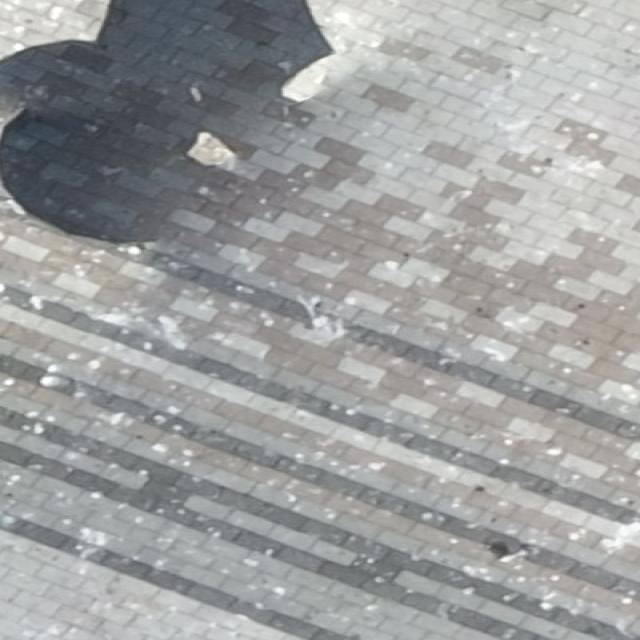umineko: (44, 378, 70, 391)
